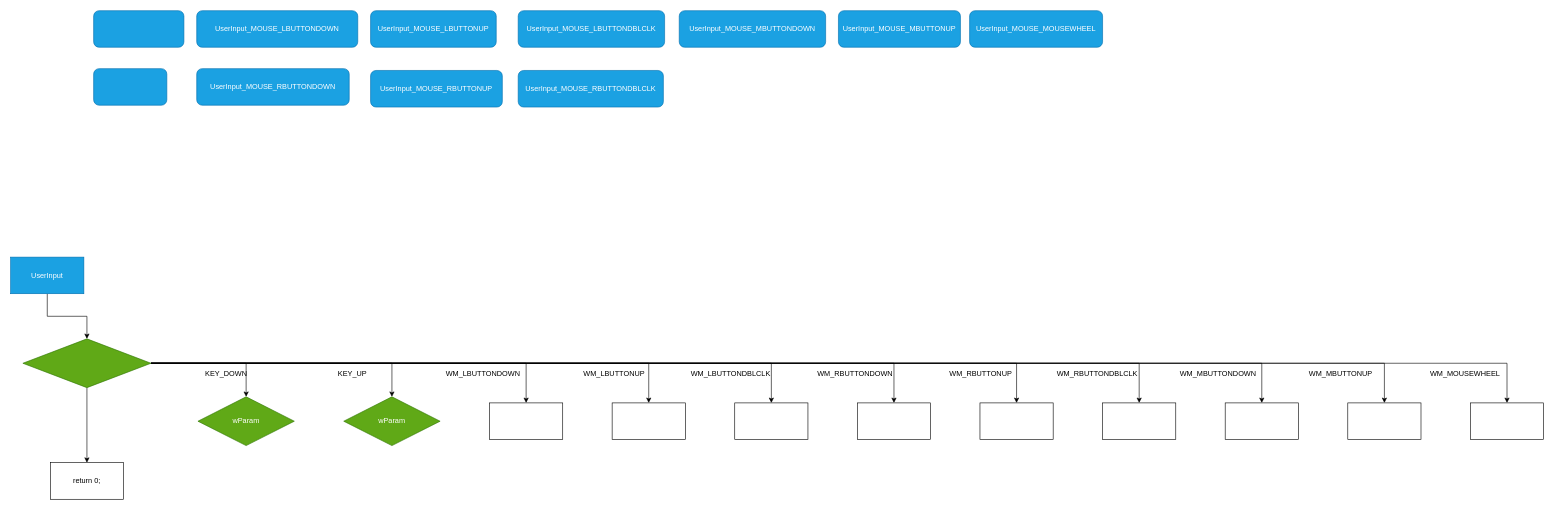
This 1554x510 diagram has some shape labels left out. The centre of each missing label's shape, as x and y in pixels:
"Message" belongs at point 86,363.
"UserInput_ KEY_DOWN" belongs at point 138,28.
"UserInput_ KEY_UP" belongs at point 130,86.
